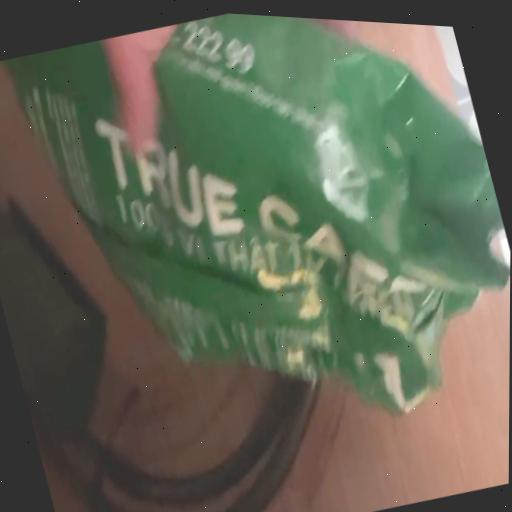cafe_xay: (3, 13, 510, 411)
